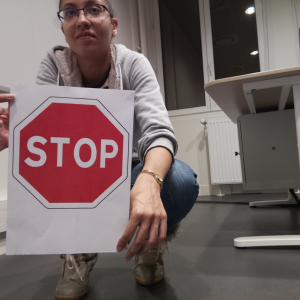stop: (12, 95, 128, 210)
